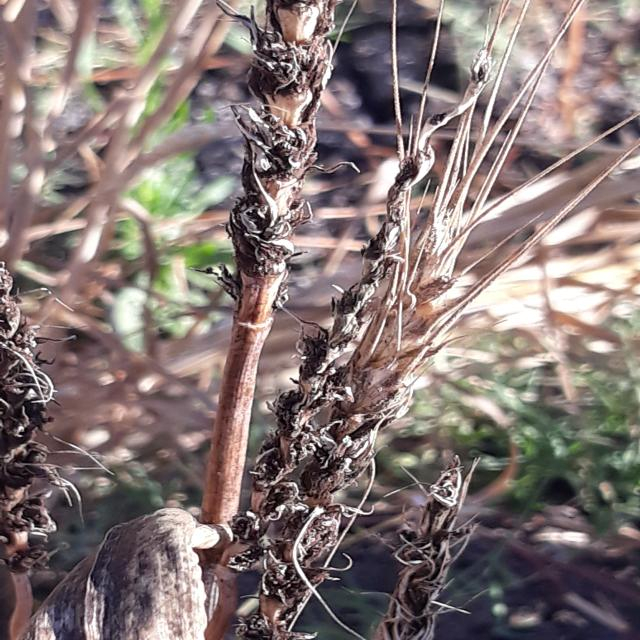loose_charred: (225, 15, 555, 640), (192, 0, 362, 552), (0, 232, 101, 640), (20, 511, 254, 640), (356, 462, 510, 640)
